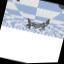drone: (24, 14, 52, 34)
